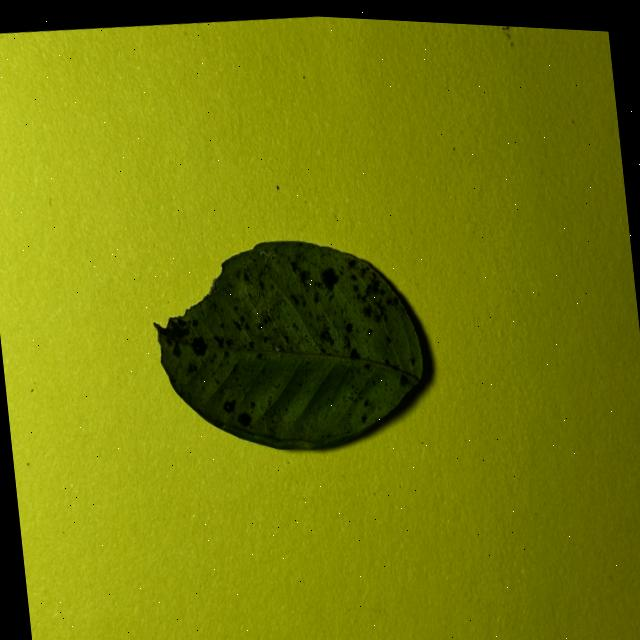sooty_mold: (154, 240, 422, 448)
